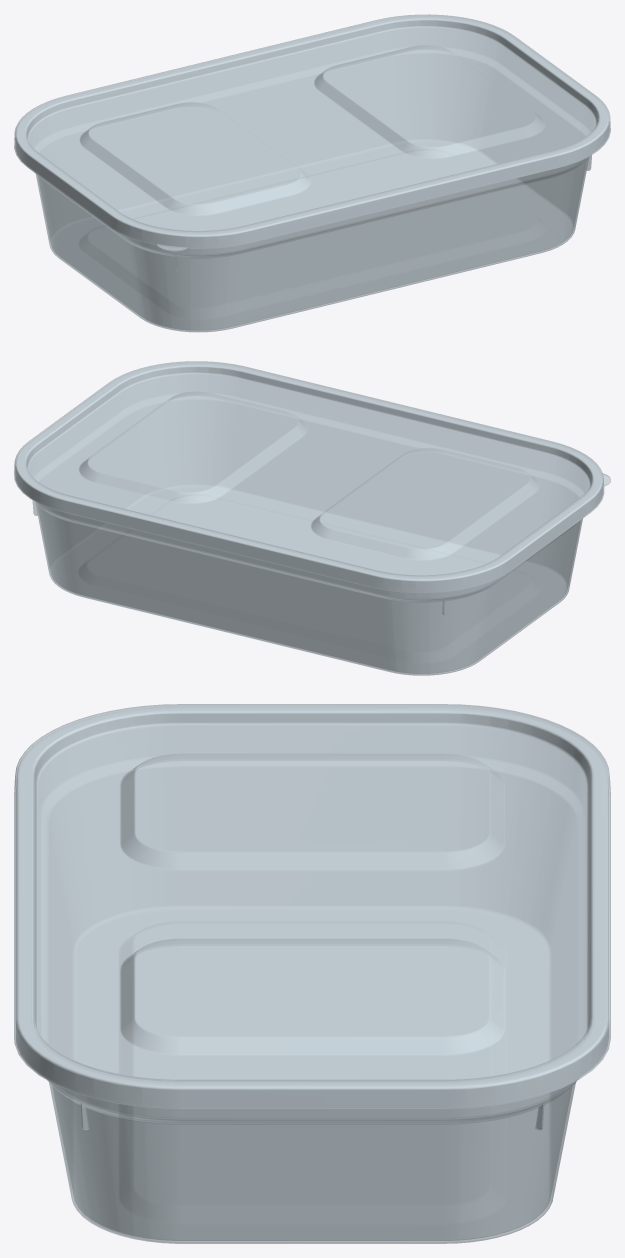
The model's file is tupperlink-4000ml.glb.
The picture shows the model from 3 angles, top to bottom: view 1: azimuth 30°, elevation 25°; view 2: azimuth 150°, elevation 25°; view 3: azimuth 270°, elevation 25°; orthographic projection. The views are drawn at different scales.
Parts seen in each view (by area): view 1: base, tampa; view 2: base, tampa; view 3: base, tampa.
Boxes of the visible parts, bbox=[...] form: base: bbox=[15, 16, 609, 332]; tampa: bbox=[14, 14, 610, 251]; base: bbox=[15, 363, 602, 675]; tampa: bbox=[14, 361, 610, 593]; base: bbox=[16, 706, 608, 1243]; tampa: bbox=[14, 704, 610, 1108].
Bounding box in the file's own units: 0.3479 × 0.0767 × 0.2279.
